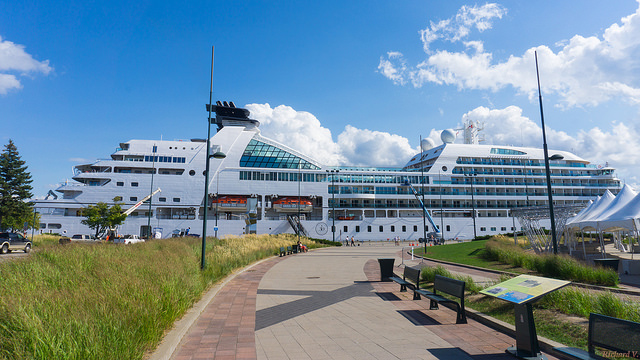cruise_ship: (28, 96, 623, 218)
